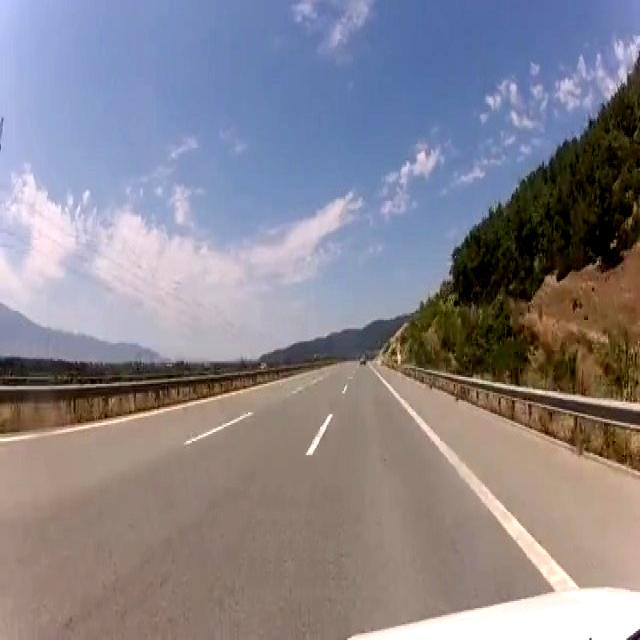lane: (370, 364, 577, 590), (184, 412, 252, 446), (306, 413, 332, 454)
road: (0, 363, 550, 636), (378, 366, 639, 588)
